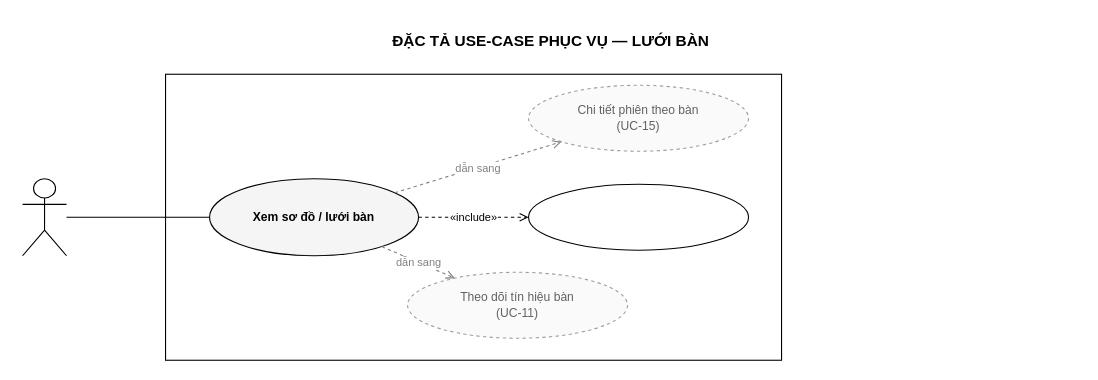
Image size: 1098x380. Some labels were removed from this diagram. The box of each missing label's shape, as (x1, y1, x2, y2) in pixels:
Lấy bàn + trạng thái + tín hiệu: (527, 183, 749, 250)
Phục vụ: (21, 178, 67, 256)
